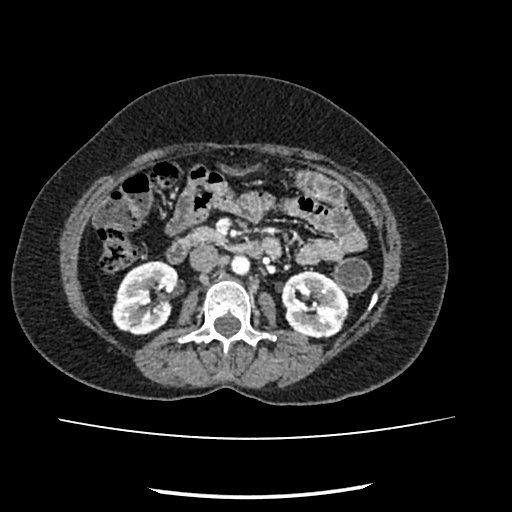aorta: (231, 250, 255, 275)
